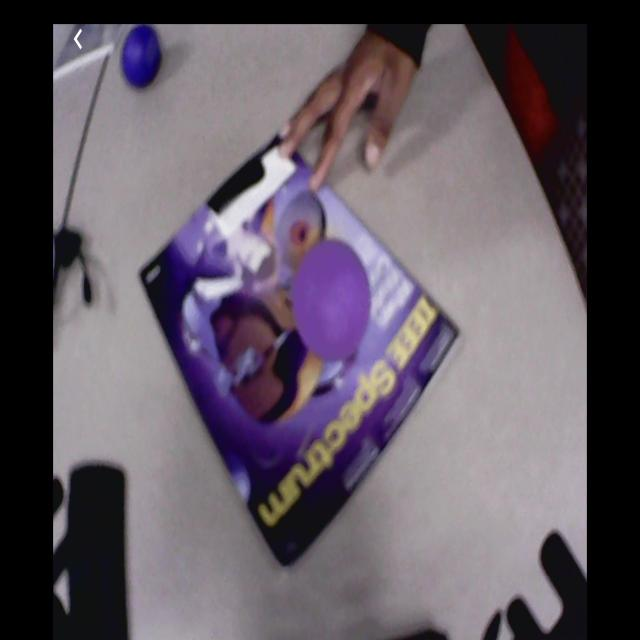ball: (293, 239, 372, 355), (122, 27, 164, 90)
